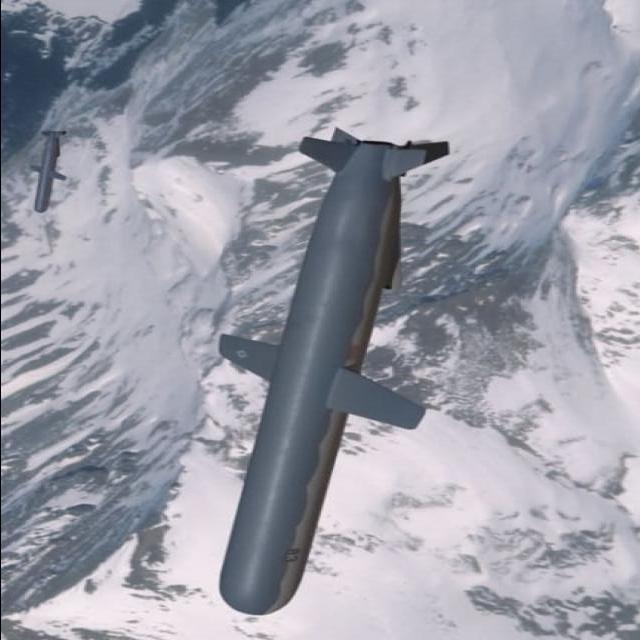Missile: (193, 116, 424, 627)
